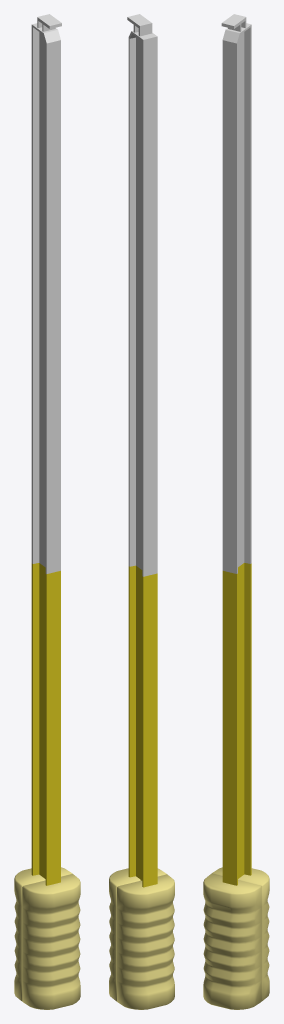
File: truss-norail-column.fbx
3 views of the same model, side by side, from view 1: azimuth 30°, elevation 25°; view 2: azimuth 210°, elevation 25°; view 3: azimuth 330°, elevation 25° (orthographic).
Visible parts, largest first — view 1: truss.006; view 2: truss.006; view 3: truss.006.
Part boxes in pixels (bbox=[...]): truss.006: bbox=[14, 14, 80, 1009]; truss.006: bbox=[109, 14, 174, 1009]; truss.006: bbox=[203, 14, 269, 1009].
Size of the model in its own units: 69.8 by 1264 by 74.39.
